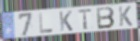7: (17, 12, 33, 38)
B: (96, 6, 116, 30)
K: (58, 10, 74, 32), (118, 5, 133, 27)
L: (39, 12, 55, 35)
T: (77, 8, 93, 31)
